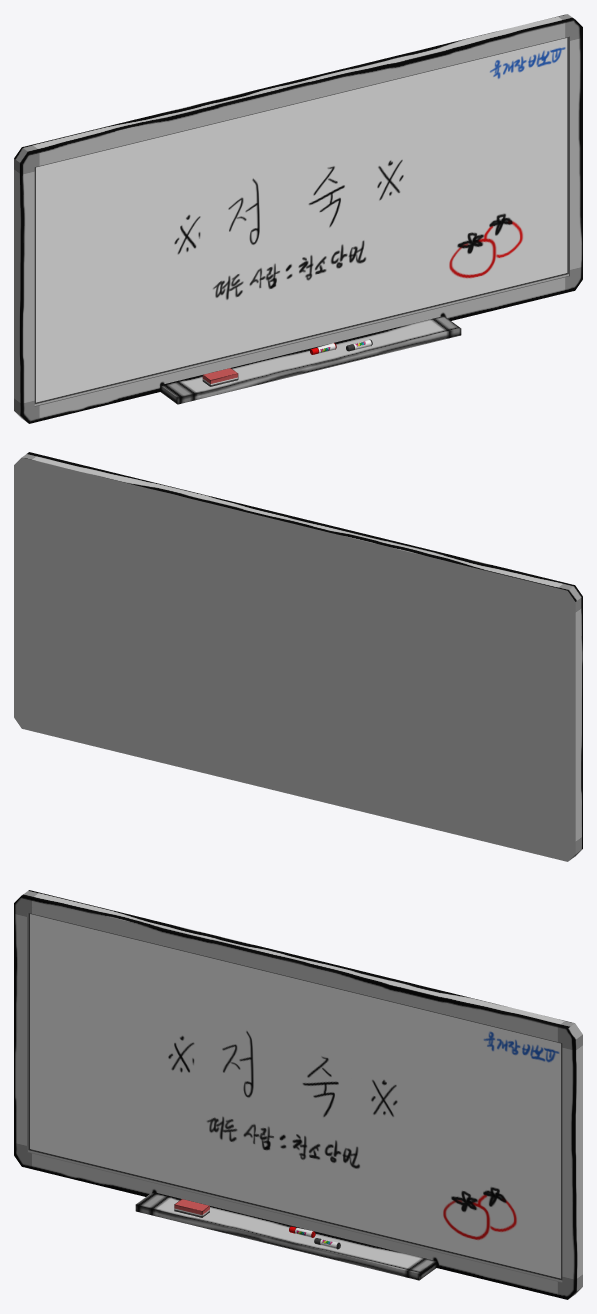
The model's file is whiteboard.FBX.
The picture shows the model from 3 angles, top to bottom: view 1: azimuth 30°, elevation 25°; view 2: azimuth 150°, elevation 25°; view 3: azimuth 330°, elevation 25°; orthographic projection.
Visible parts, largest first — view 1: Box001; view 2: Box001; view 3: Box001.
Boxes of the visible parts, x1=… form: Box001: x1=14, y1=14, x2=582, y2=423; Box001: x1=14, y1=452, x2=582, y2=861; Box001: x1=14, y1=890, x2=582, y2=1299.
Size of the model in its own units: 260 by 120 by 19.88.
